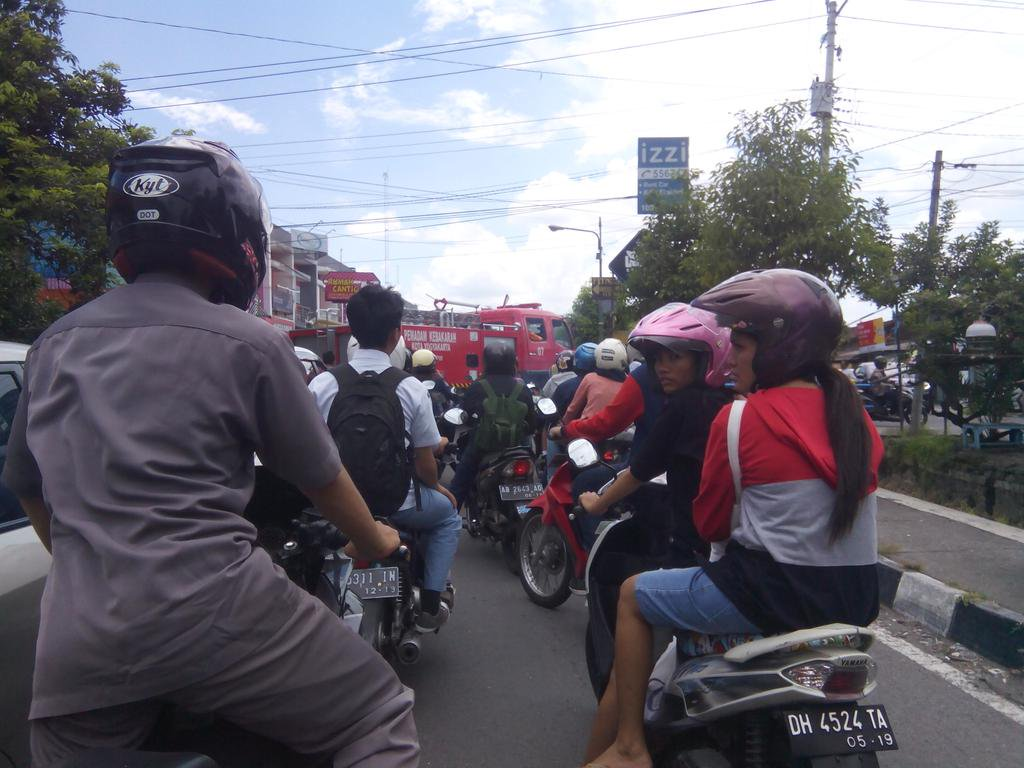plate: (780, 705, 890, 748)
